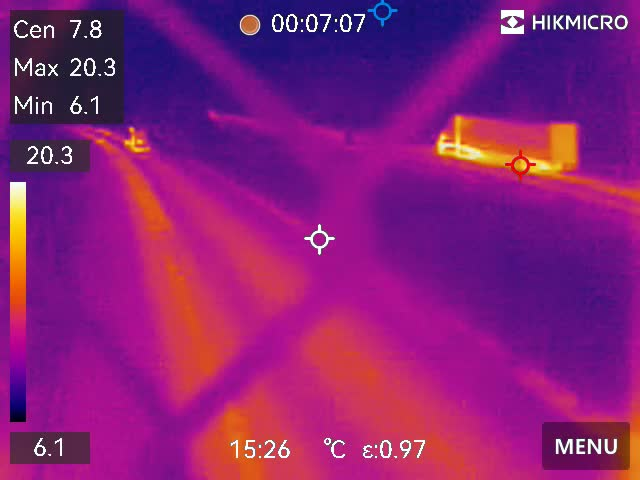heavyTruck: (428, 104, 586, 180)
